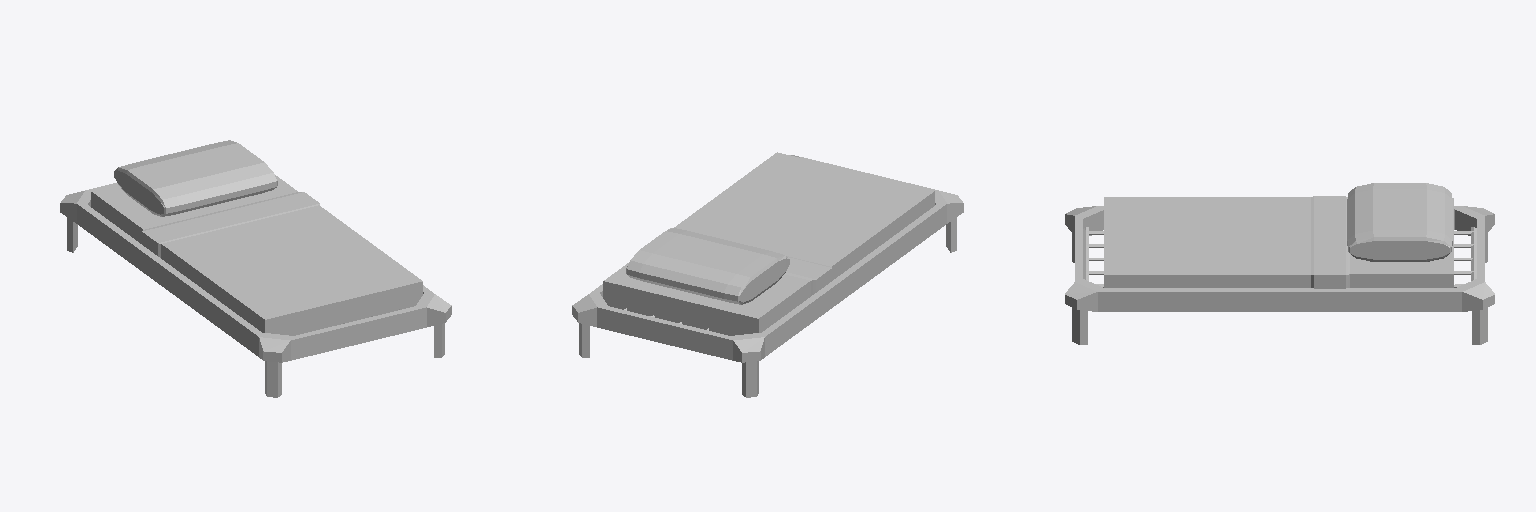
Rendered from Кровать (одинарная).obj.
The picture shows the model from 3 angles: view 1: azimuth 30°, elevation 25°; view 2: azimuth 150°, elevation 25°; view 3: azimuth 270°, elevation 25°; orthographic projection.
Visible parts, largest first — view 1: Cube_Cube.001, Plane, Cube.001_Cube.002; view 2: Cube_Cube.001, Plane, Cube.001_Cube.002; view 3: Cube_Cube.001, Plane, Cube.001_Cube.002, Plane.001.
Part boxes in pixels (x1,y1,x2,y2): Cube_Cube.001: (91, 175, 422, 335); Plane: (60, 183, 451, 397); Cube.001_Cube.002: (114, 140, 277, 216); Cube_Cube.001: (603, 152, 934, 335); Plane: (572, 155, 963, 397); Cube.001_Cube.002: (626, 228, 789, 304); Cube_Cube.001: (1104, 196, 1453, 288); Plane: (1065, 206, 1494, 344); Cube.001_Cube.002: (1347, 183, 1452, 261); Plane.001: (1083, 227, 1476, 287).
Size of the model in its own units: 1.07 by 0.4997 by 2.12.